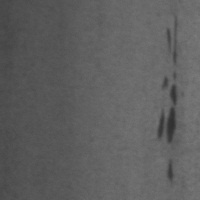inclusion: (157, 13, 182, 107), (154, 104, 181, 147), (163, 155, 178, 184)
